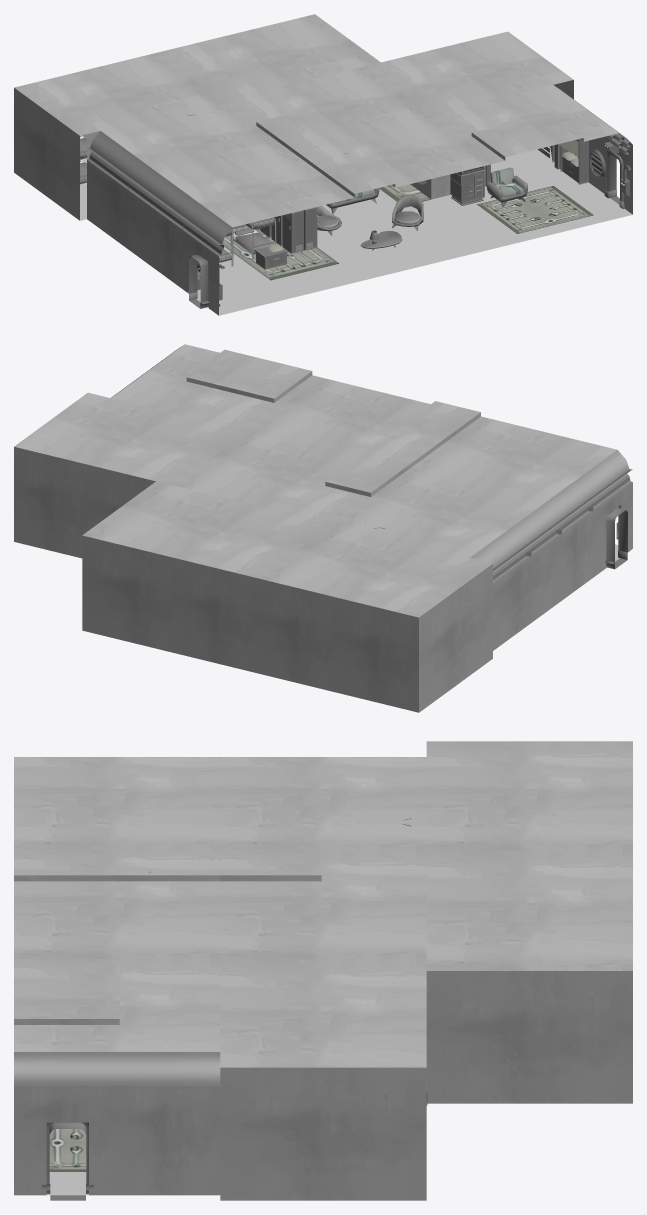
The model's file is MSH_living_quarters_L3_R3_optimized.fbx.
The picture shows the model from 3 angles, top to bottom: view 1: azimuth 30°, elevation 25°; view 2: azimuth 150°, elevation 25°; view 3: azimuth 270°, elevation 25°; orthographic projection. The views are drawn at different scales.
Visible parts, largest first — view 1: lightmap0, lightmap1, MSH_living_quarters_L3_R3_door; view 2: lightmap0, MSH_living_quarters_L3_R3_door; view 3: lightmap0.
Part boxes in pixels (box(x1,y1,x2,y2)): lightmap0: box(14, 14, 632, 315); lightmap1: box(80, 107, 631, 300); MSH_living_quarters_L3_R3_door: box(189, 154, 619, 308); lightmap0: box(14, 344, 632, 712); MSH_living_quarters_L3_R3_door: box(606, 508, 627, 569); lightmap0: box(14, 741, 632, 1200).
Size of the model in its own units: 30.91 by 6.17 by 24.77.
